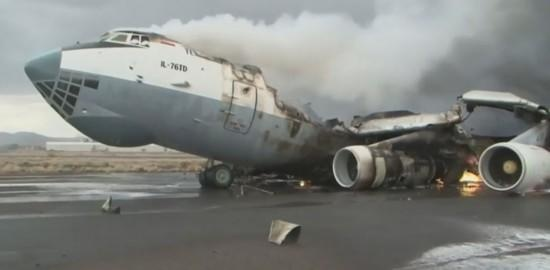airplane: (15, 22, 545, 191)
